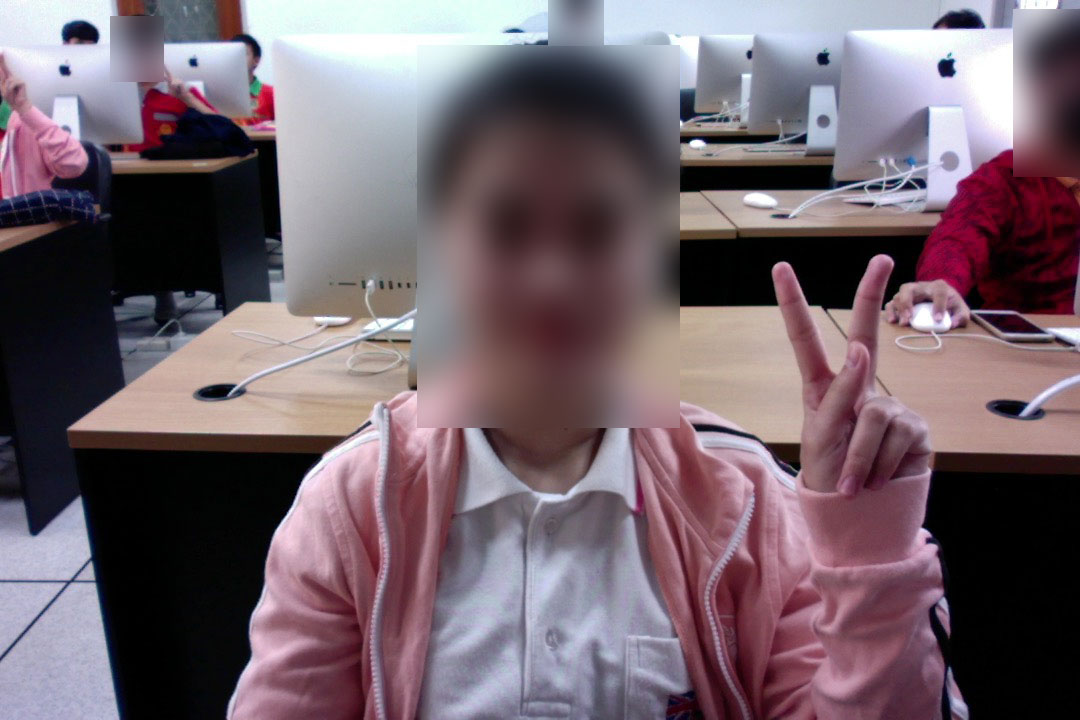ko: (749, 239, 946, 564)
